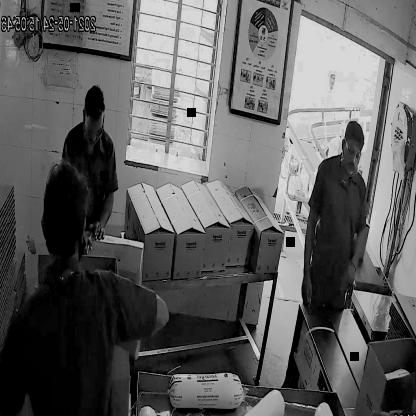goggles: (343, 140, 363, 162)
